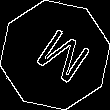M_SW: (22, 21, 88, 89)
